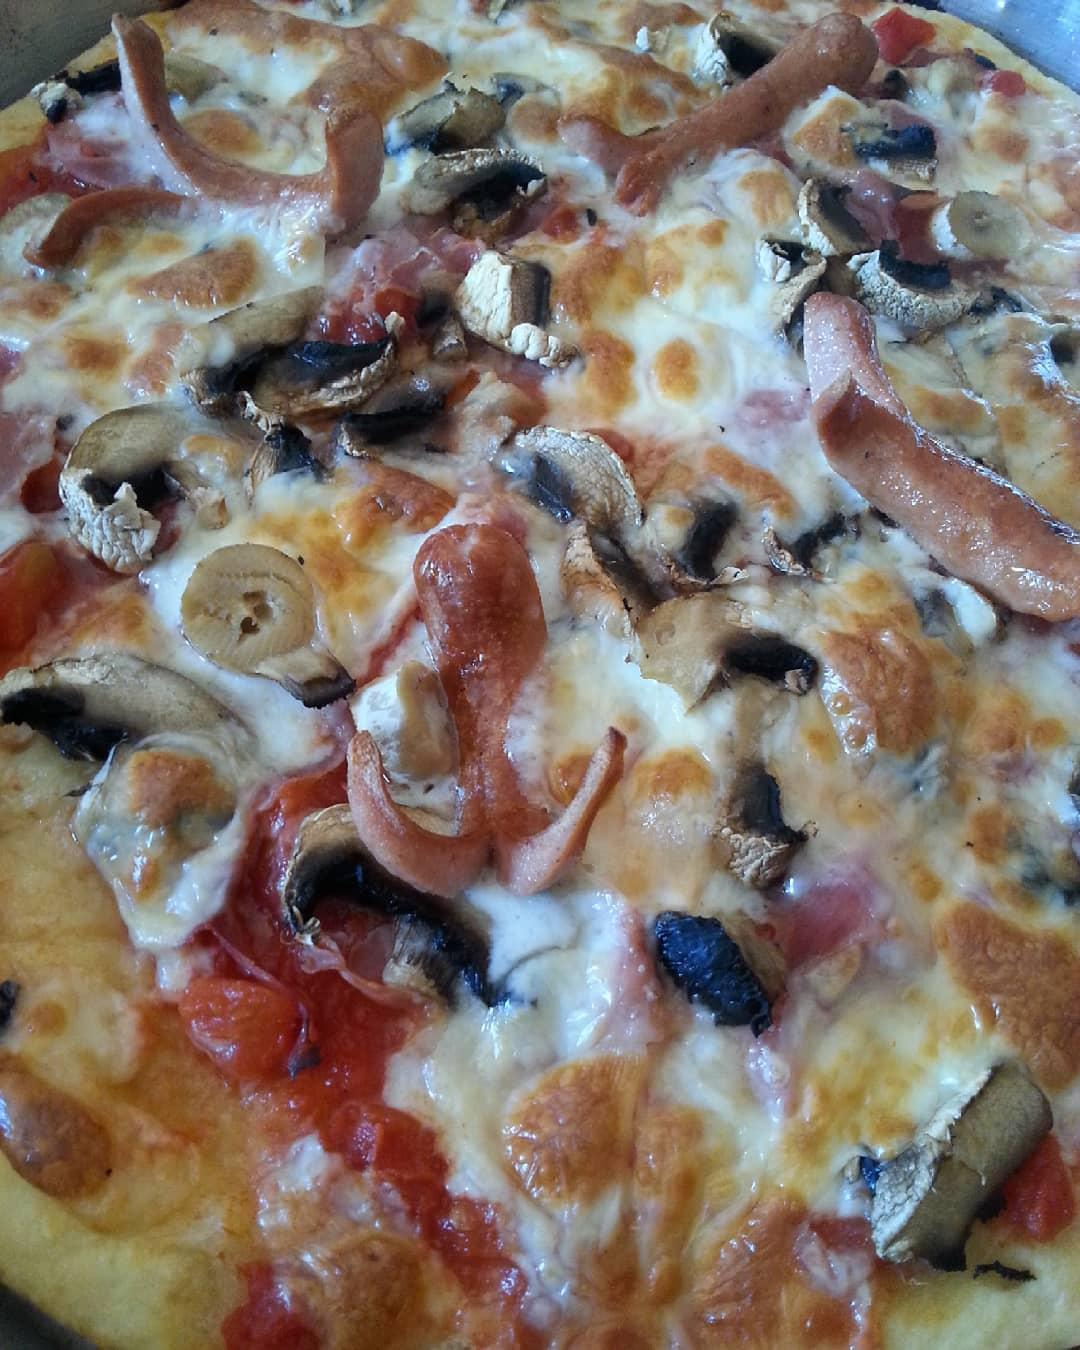Bacon: (140, 828, 523, 1310), (159, 903, 546, 1350), (347, 507, 629, 962), (13, 143, 191, 281), (302, 241, 464, 365), (855, 0, 942, 67)
Mushroom: (0, 635, 287, 948), (271, 792, 565, 1022), (838, 1047, 1065, 1290), (180, 283, 464, 463), (500, 421, 752, 613), (733, 176, 987, 354), (358, 55, 568, 241), (160, 531, 358, 712), (226, 1181, 435, 1350), (50, 393, 234, 576), (0, 990, 107, 1231), (417, 231, 559, 392), (635, 885, 773, 1030), (344, 652, 479, 795), (787, 82, 959, 192), (964, 277, 1080, 436), (20, 55, 224, 144), (749, 476, 911, 586), (662, 626, 823, 733), (700, 755, 811, 909), (901, 560, 1026, 658), (682, 4, 796, 97)
Pizza: (0, 0, 1080, 1350)
